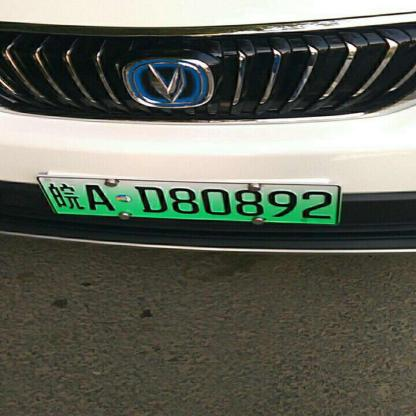lp: (38, 177, 58, 223)
